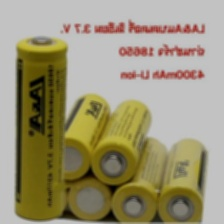battery: (10, 32, 71, 222), (88, 98, 155, 187), (52, 88, 114, 180), (66, 133, 128, 222), (110, 132, 169, 222), (156, 134, 212, 223)
